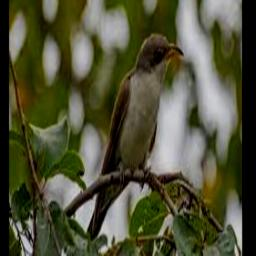Cuckoo: (70, 32, 184, 256)
